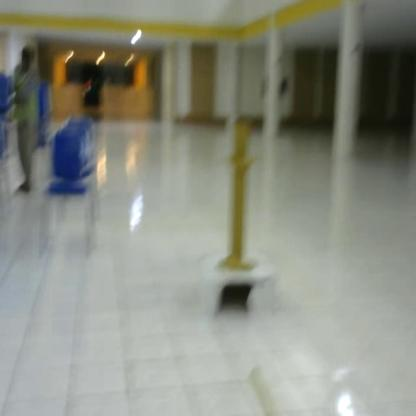pole: (214, 118, 263, 278)
